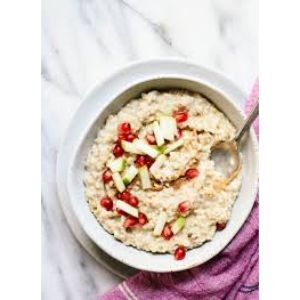oat_brain food: (102, 111, 227, 234)
